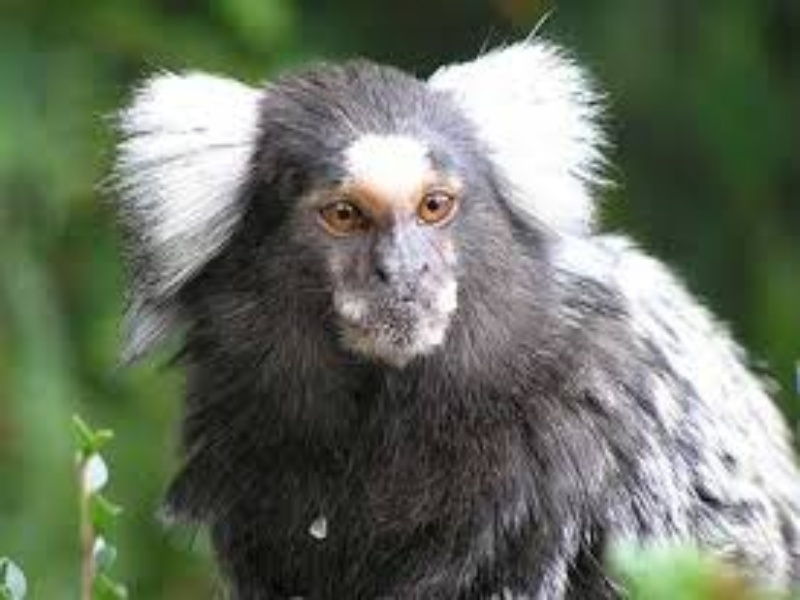monkey: (96, 30, 800, 600)
